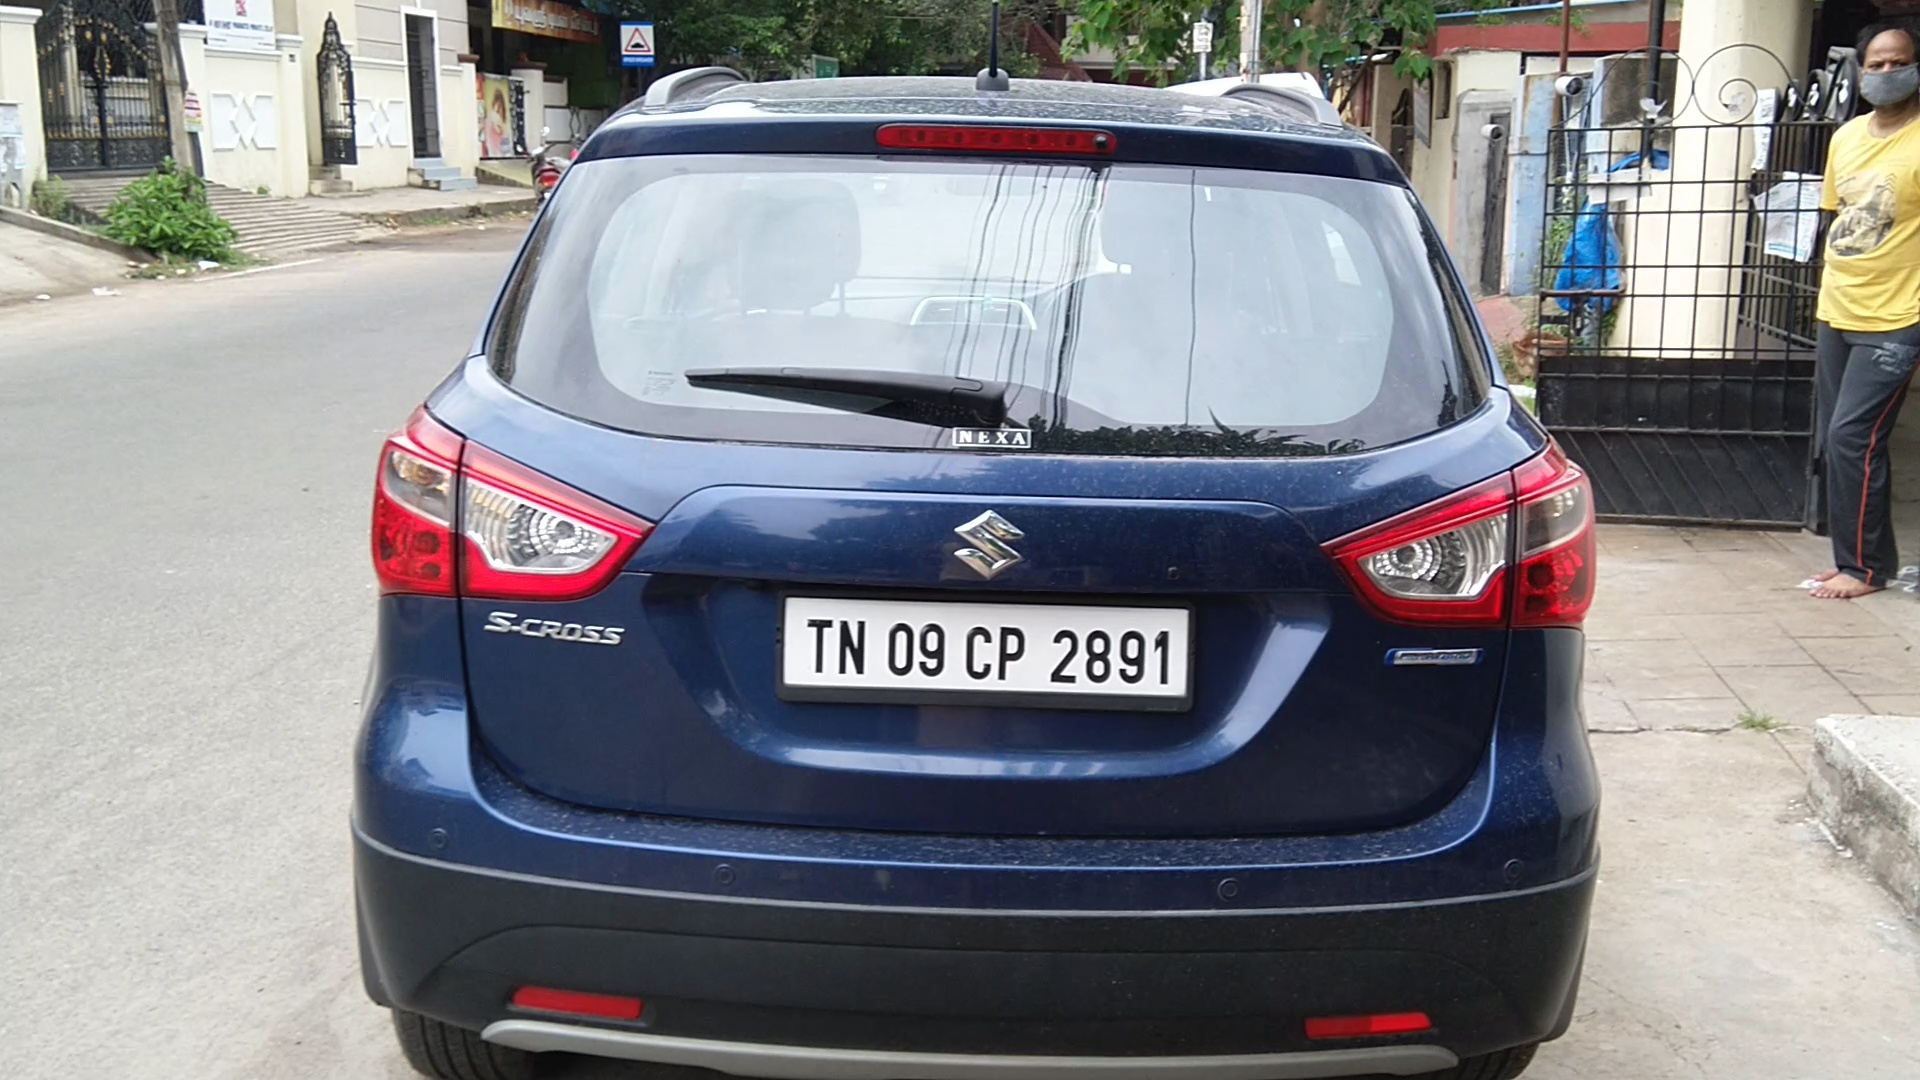rear_camera: (1085, 128, 1117, 161)
shvs: (1375, 637, 1505, 690)
